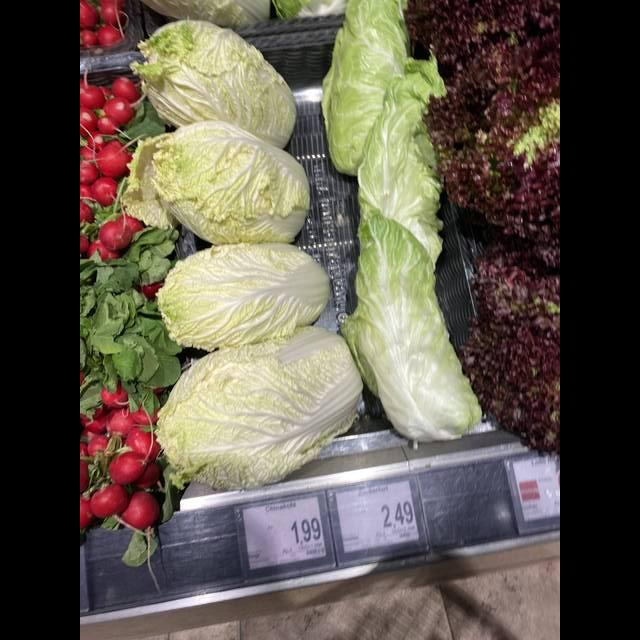cabbage: (156, 327, 364, 487), (129, 123, 309, 246), (135, 20, 297, 147), (158, 245, 330, 351)
